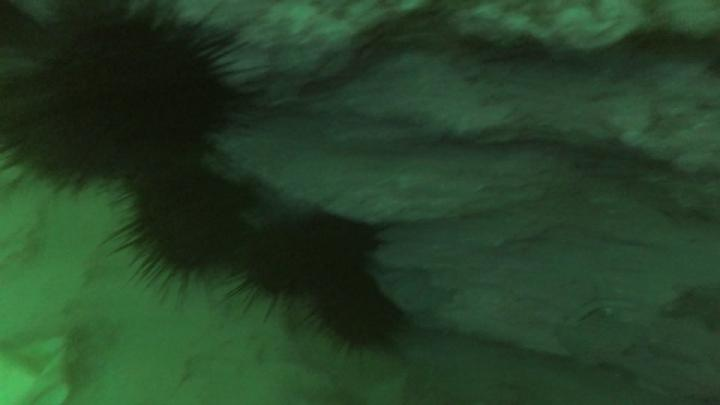echinus: (1, 1, 253, 206), (87, 181, 279, 315), (230, 209, 401, 325), (299, 271, 428, 363)
